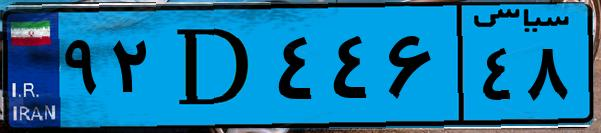2: (110, 28, 158, 98)
4: (270, 28, 330, 110), (330, 28, 385, 110), (475, 38, 525, 113)
6: (385, 28, 445, 110)
8: (525, 38, 570, 115)
9: (57, 26, 110, 100)
D: (158, 12, 270, 120)
